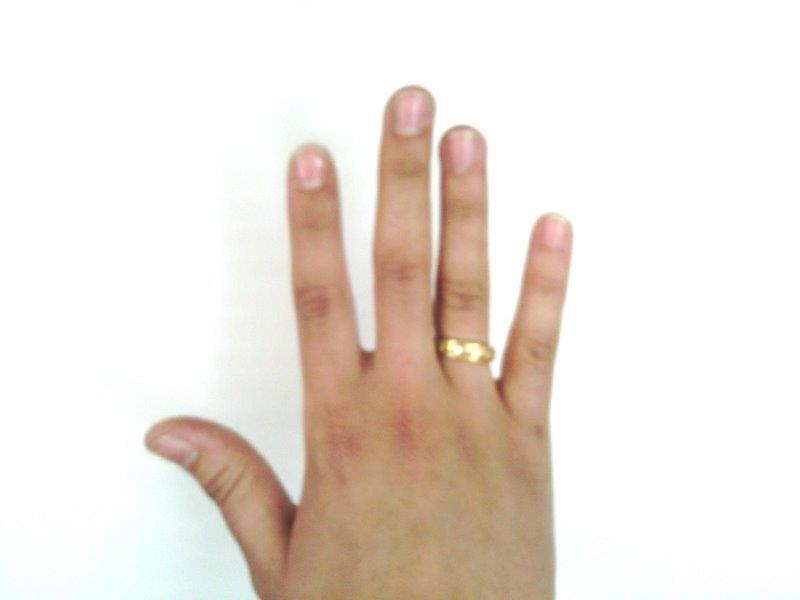hand: (145, 85, 572, 597)
